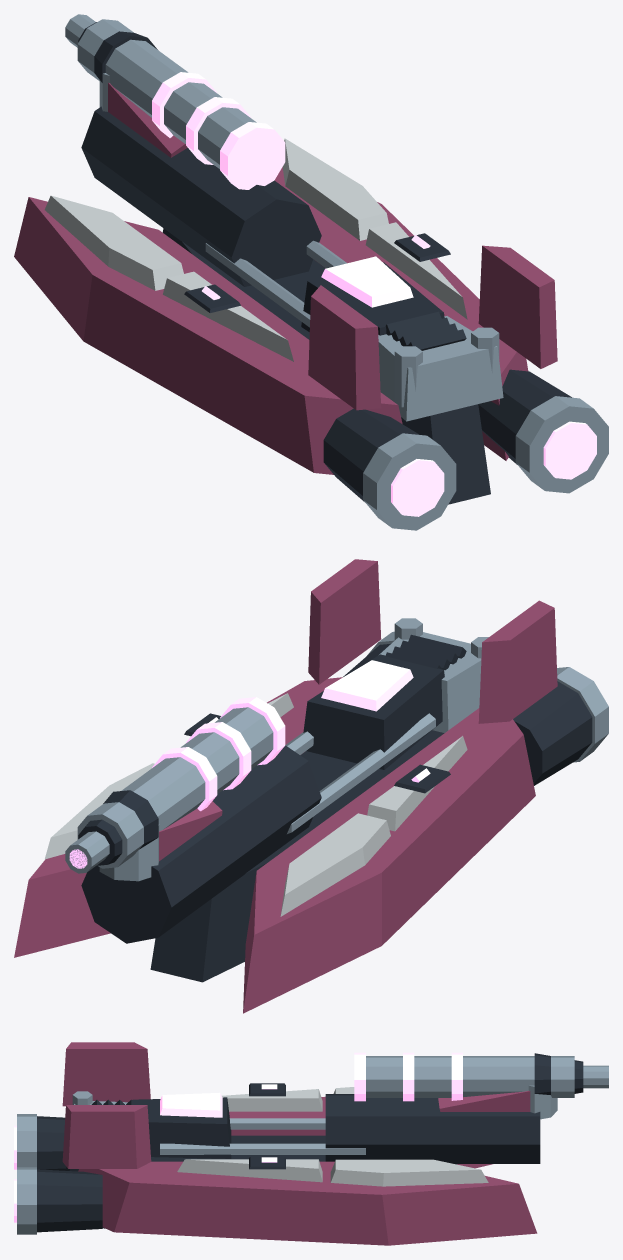
File: c2_sniper.glb
The picture shows the model from 3 angles, top to bottom: view 1: azimuth 30°, elevation 25°; view 2: azimuth 150°, elevation 25°; view 3: azimuth 270°, elevation 25°; orthographic projection. The views are drawn at different scales.
Parts seen in each view (by area): view 1: c2_sniper / Armor, c2_sniper / Chassis, c2_sniper / Titanium, c2_sniper / Identification, c2_sniper / Energy; view 2: c2_sniper / Armor, c2_sniper / Chassis, c2_sniper / Titanium, c2_sniper / Identification, c2_sniper / Energy; view 3: c2_sniper / Armor, c2_sniper / Chassis, c2_sniper / Titanium, c2_sniper / Identification, c2_sniper / Energy.
Part boxes in pixels (<box>): c2_sniper / Armor: <box>14,82,557,474</box>; c2_sniper / Chassis: <box>78,22,571,504</box>; c2_sniper / Titanium: <box>65,14,608,530</box>; c2_sniper / Identification: <box>44,138,467,361</box>; c2_sniper / Energy: <box>152,72,596,516</box>; c2_sniper / Armor: <box>14,559,557,1013</box>; c2_sniper / Chassis: <box>78,634,592,982</box>; c2_sniper / Titanium: <box>65,618,608,881</box>; c2_sniper / Identification: <box>45,693,467,916</box>; c2_sniper / Energy: <box>69,660,430,868</box>; c2_sniper / Armor: <box>62,1042,537,1245</box>; c2_sniper / Chassis: <box>37,1053,583,1232</box>; c2_sniper / Titanium: <box>17,1056,608,1234</box>; c2_sniper / Identification: <box>177,1087,488,1186</box>; c2_sniper / Energy: <box>14,1052,462,1222</box>.
Size of the model in its own units: 0.86 by 0.607 by 2.08.
